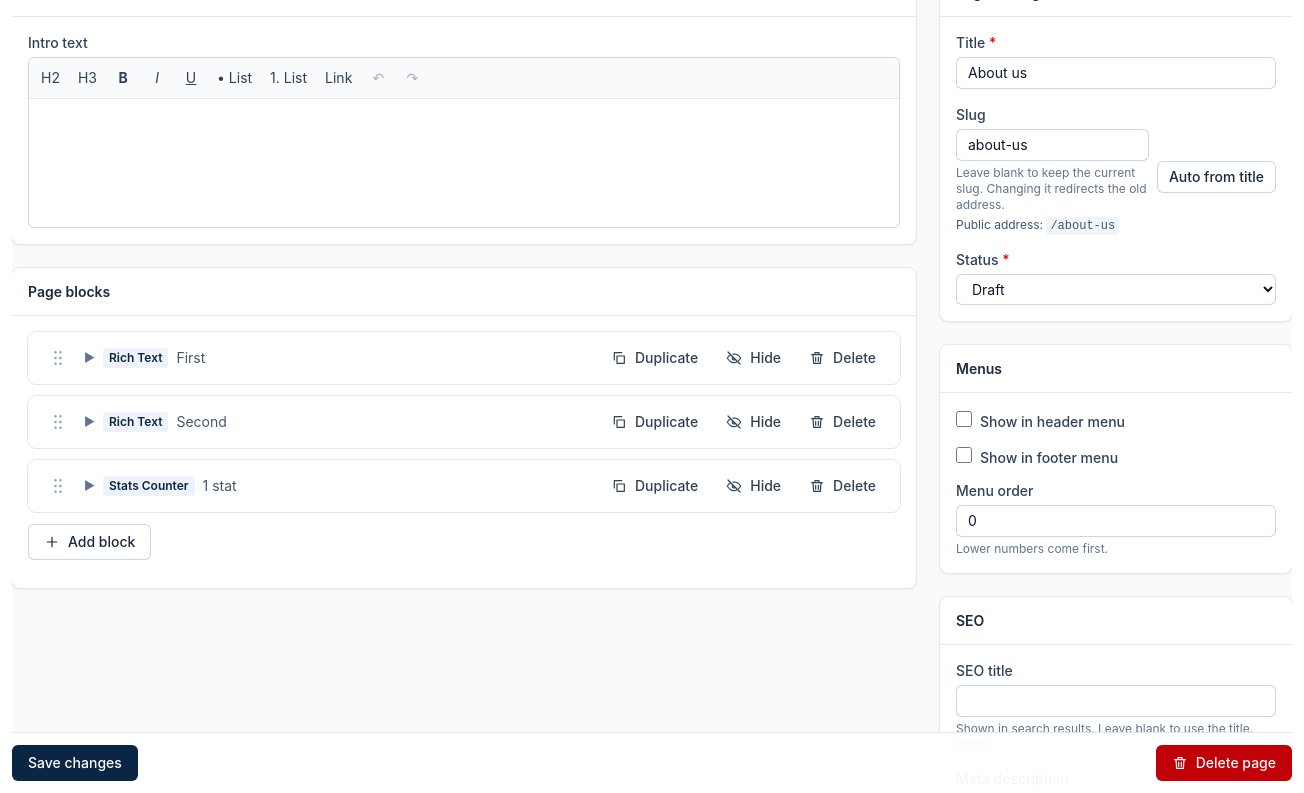
PageFormPage settings › counts SEO characters and previews the search result
Type "Crew agency" into the field labelled "SEO title" at (1116, 701), box top-left (956, 685), bottom-right (1276, 717)
(page scrolled)
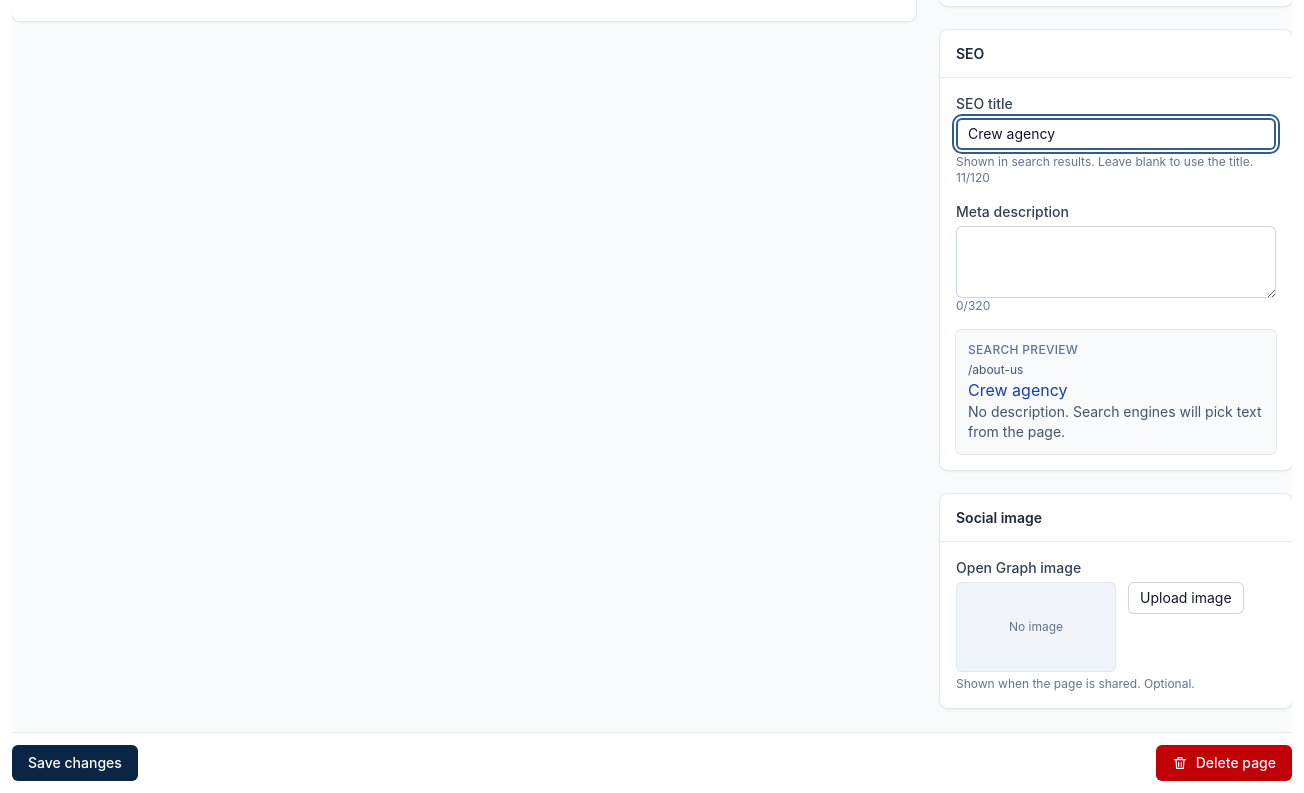
Check: the text named "Meta description length" reads "0/320", box top-left (956, 298), bottom-right (990, 313)
Check: the text named "SEO title length" reads "11/120", box top-left (956, 170), bottom-right (990, 185)
Check: the text "Crew agency" is shown, box top-left (968, 380), bottom-right (1068, 400)
